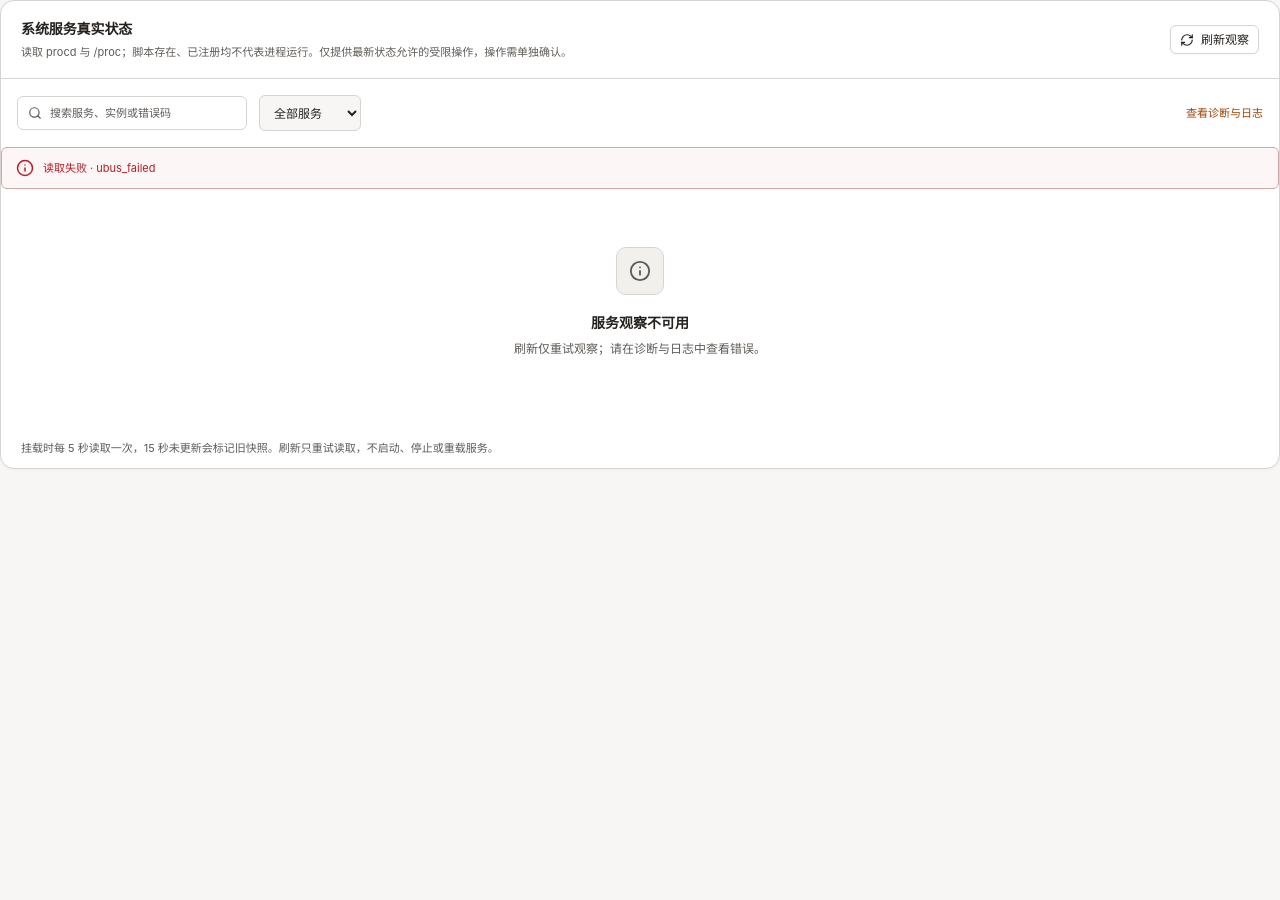
service status observation lifecycle › mounts its own loader and retries observation without hiding initial failure
The image size is (1280, 900).
Expected: the text "读取失败 · ubus_failed" is shown, left=43, top=161, right=156, bottom=175
Expected: the text "运行中 (PID 1820)" is not shown
Click the button "刷新观察" at [1214, 40], box left=1170, top=25, right=1259, bottom=54
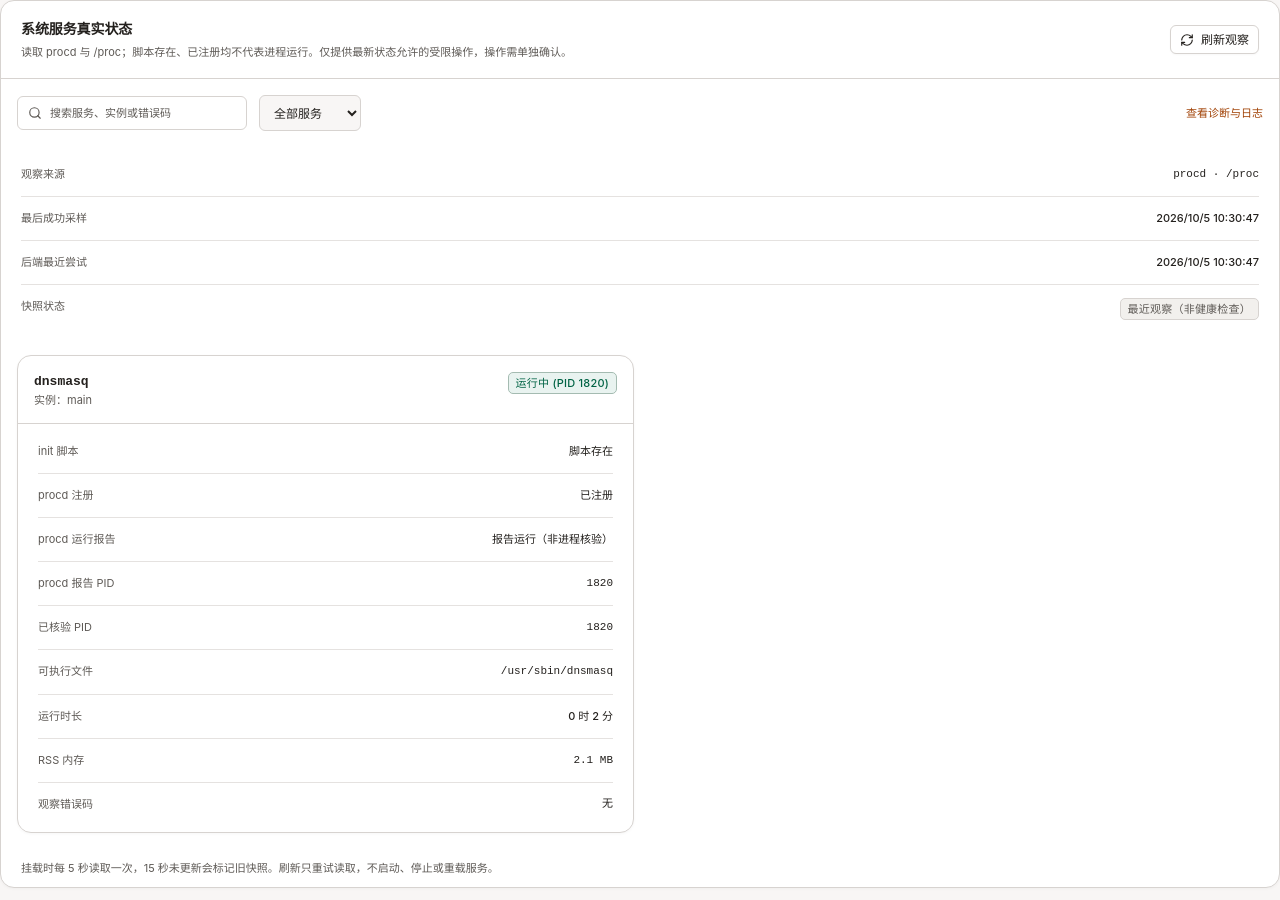
Now the text "运行中 (PID 1820)" is shown, box left=508, top=372, right=617, bottom=394
Now the message "读取失败 · ubus_failed" is gone
